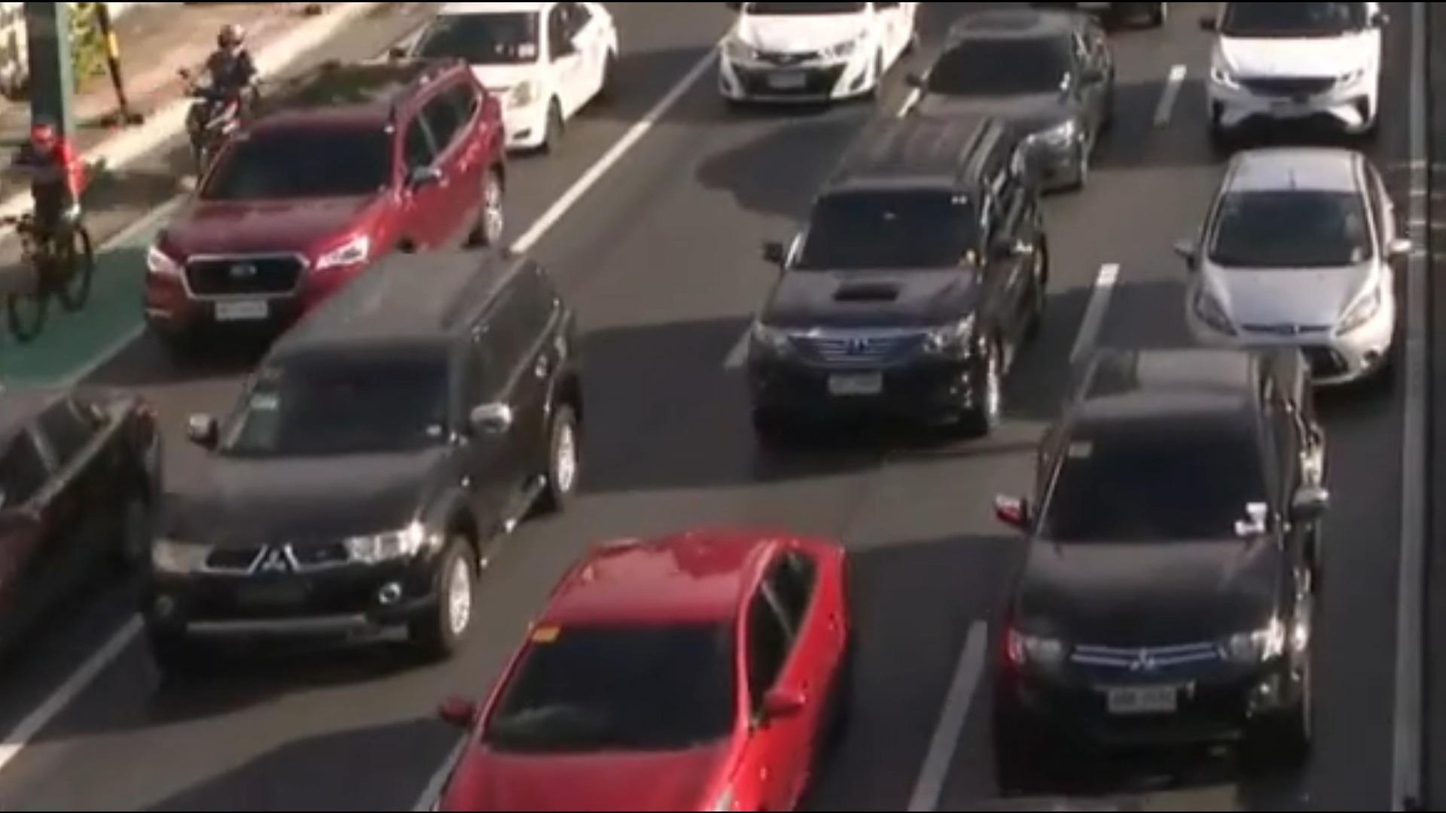Bicycle: (0, 111, 132, 365)
Motorcycle: (176, 21, 279, 168)
Pickup: (915, 318, 1386, 803)
SUV: (116, 239, 607, 693), (668, 104, 1094, 500), (109, 61, 524, 389), (691, 0, 926, 104)
Sedan: (405, 514, 880, 813), (1170, 126, 1414, 384), (0, 365, 183, 657), (900, 6, 1126, 191), (399, 0, 648, 155)
